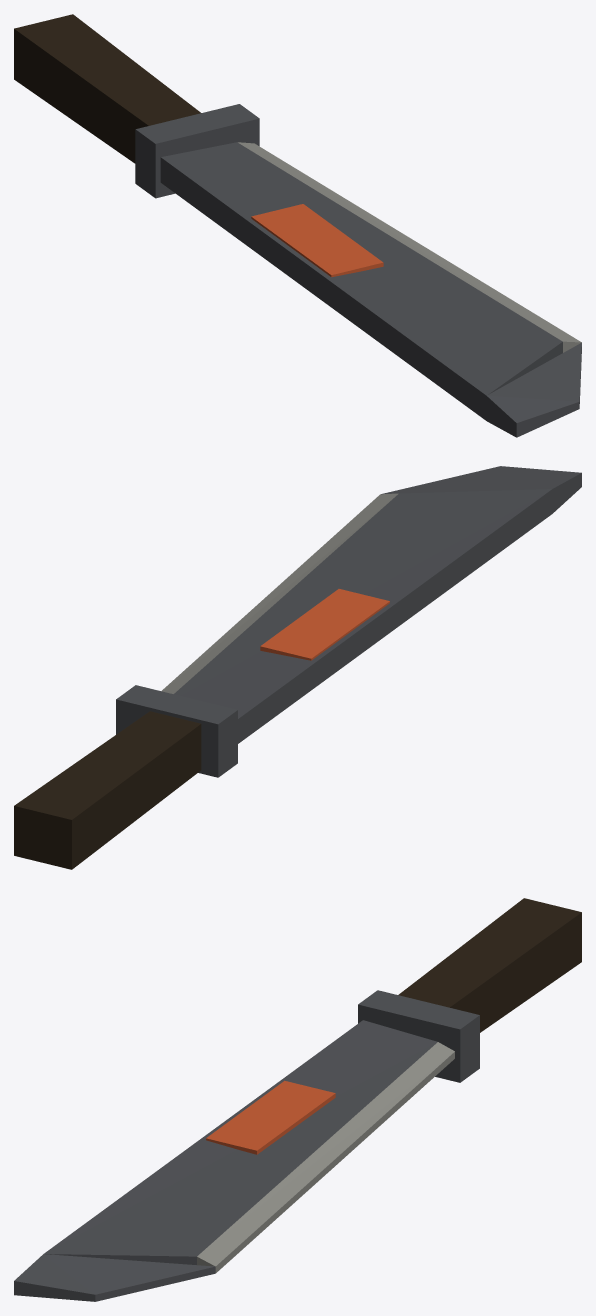
File: machete.glb
The picture shows the model from 3 angles, top to bottom: view 1: azimuth 30°, elevation 25°; view 2: azimuth 150°, elevation 25°; view 3: azimuth 330°, elevation 25°; orthographic projection.
Parts seen in each view (by area): view 1: machete; view 2: machete; view 3: machete.
Boxes of the visible parts, x1,y1,x2,y2 form: machete: (14,14,581,437); machete: (14,466,581,869); machete: (14,898,581,1301).
Size of the model in its own units: 0.081 by 0.03 by 0.51.
